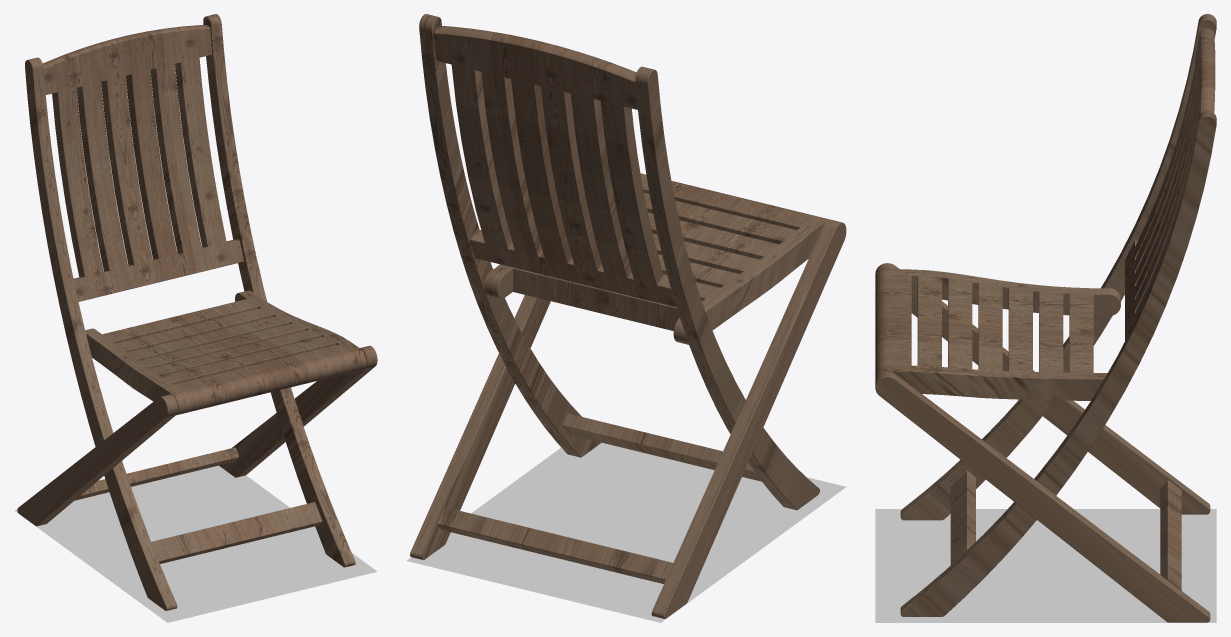
3 renders of one model, left to right at view 1: azimuth 30°, elevation 25°; view 2: azimuth 150°, elevation 25°; view 3: azimuth 270°, elevation 25°, orthographic. The views are drawn at different scales.
Visible parts, largest first — view 1: default_1_2, ground_1; view 2: default_1_2, ground_1; view 3: default_1_2, ground_1.
Boxes of the visible parts, x1,y1,x2,y2 form: default_1_2: (17,14,377,610); ground_1: (14,465,377,622); default_1_2: (410,14,846,618); ground_1: (406,443,846,622); default_1_2: (875,14,1216,622); ground_1: (875,509,1216,622).
Bounding box in the file's own units: 44.4 × 91 × 56.2.
Materials: 2 (1 with a texture image).
